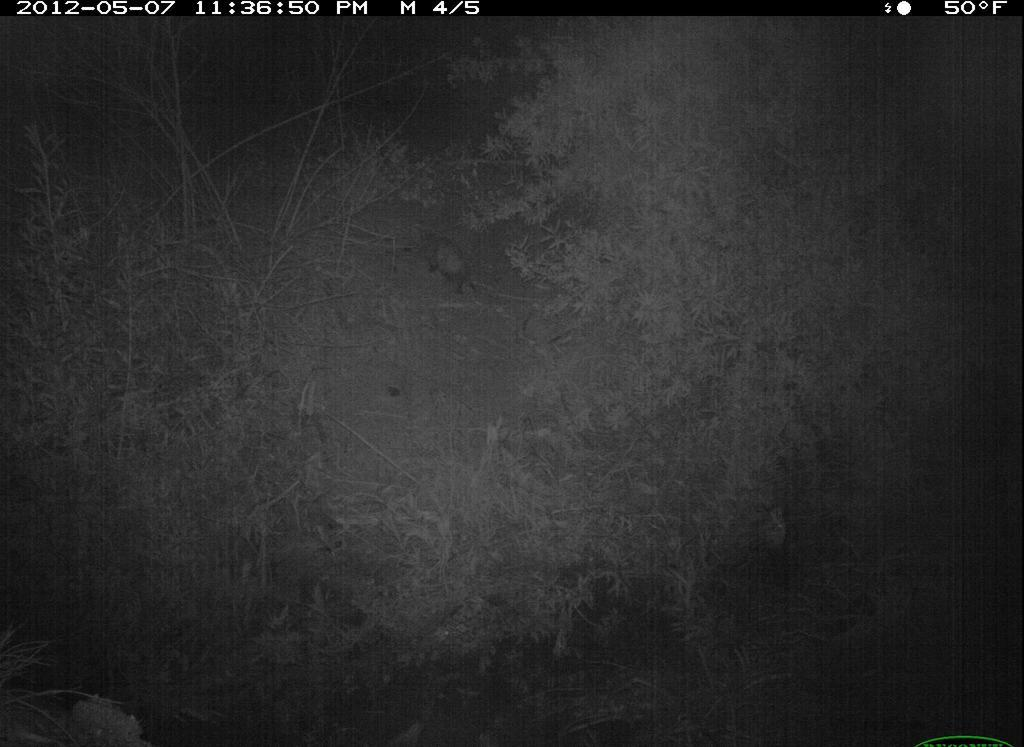opossum: (414, 217, 496, 299)
